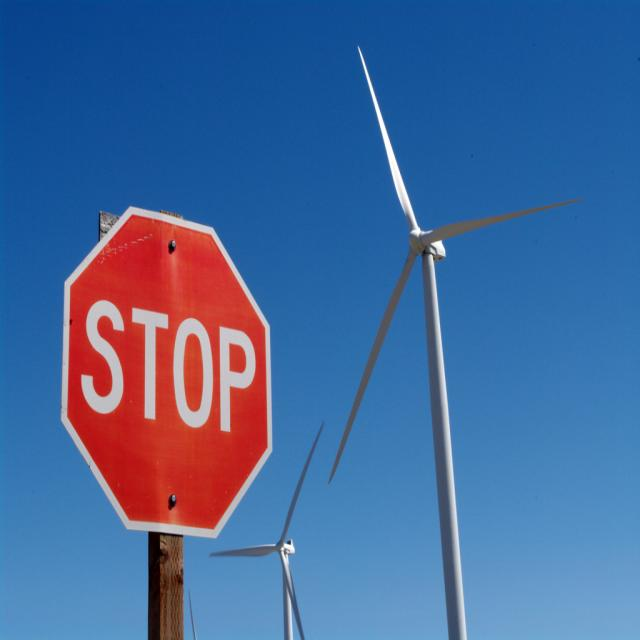Stop-sign: (60, 206, 274, 539)
